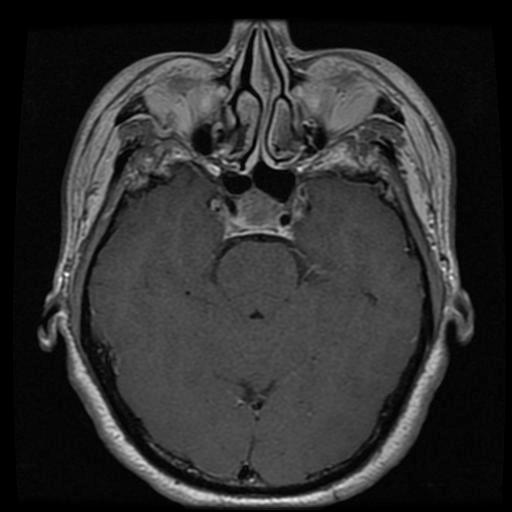Tumour-Pituitary: (216, 189, 302, 243)
